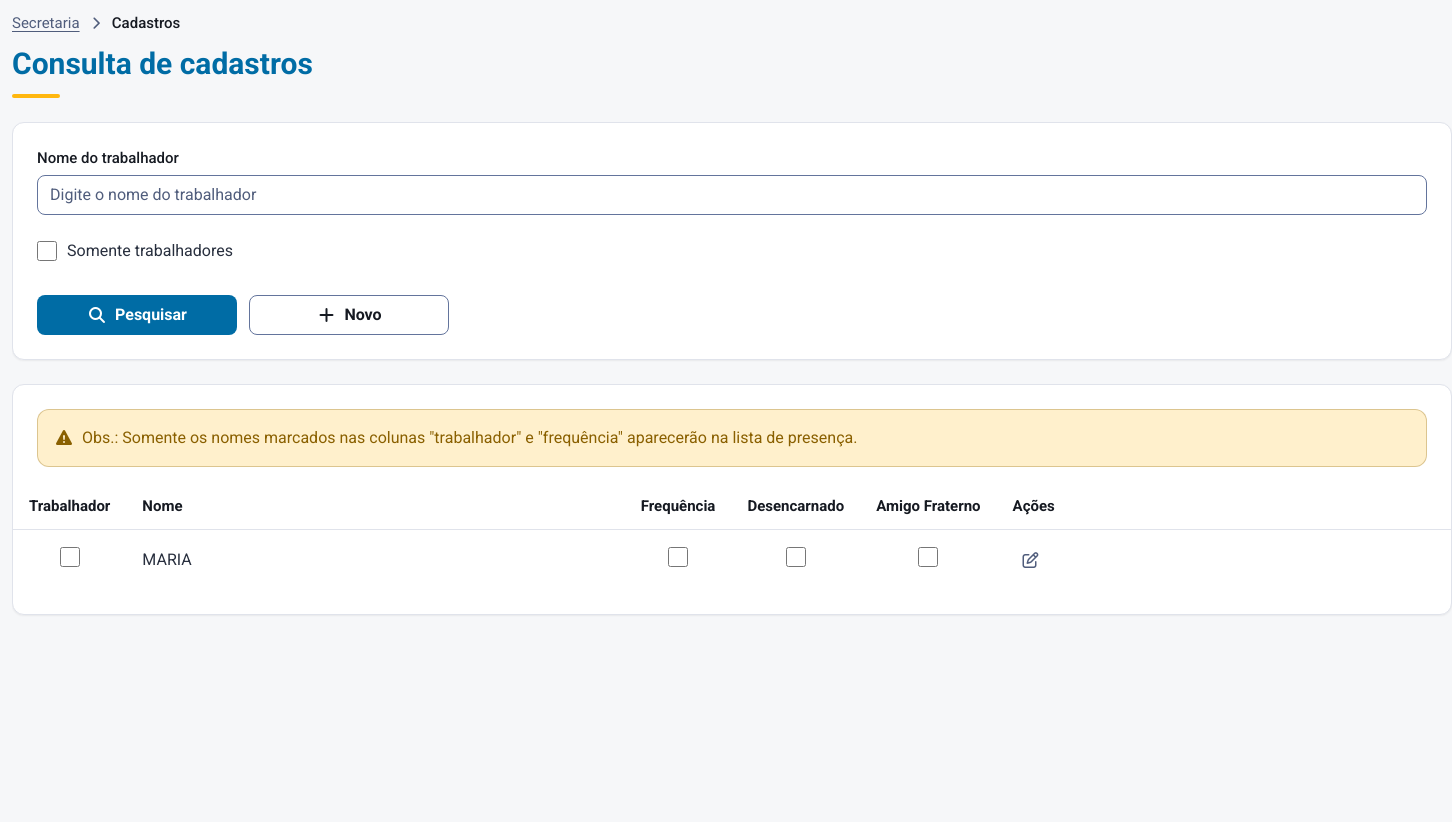
Test case: secretaria registration list flags › shows an alert and restores the flag when the update fails
Click the checkbox named "Marcar MARIA como trabalhador": {"x": 70, "y": 556} [60, 546, 80, 566]
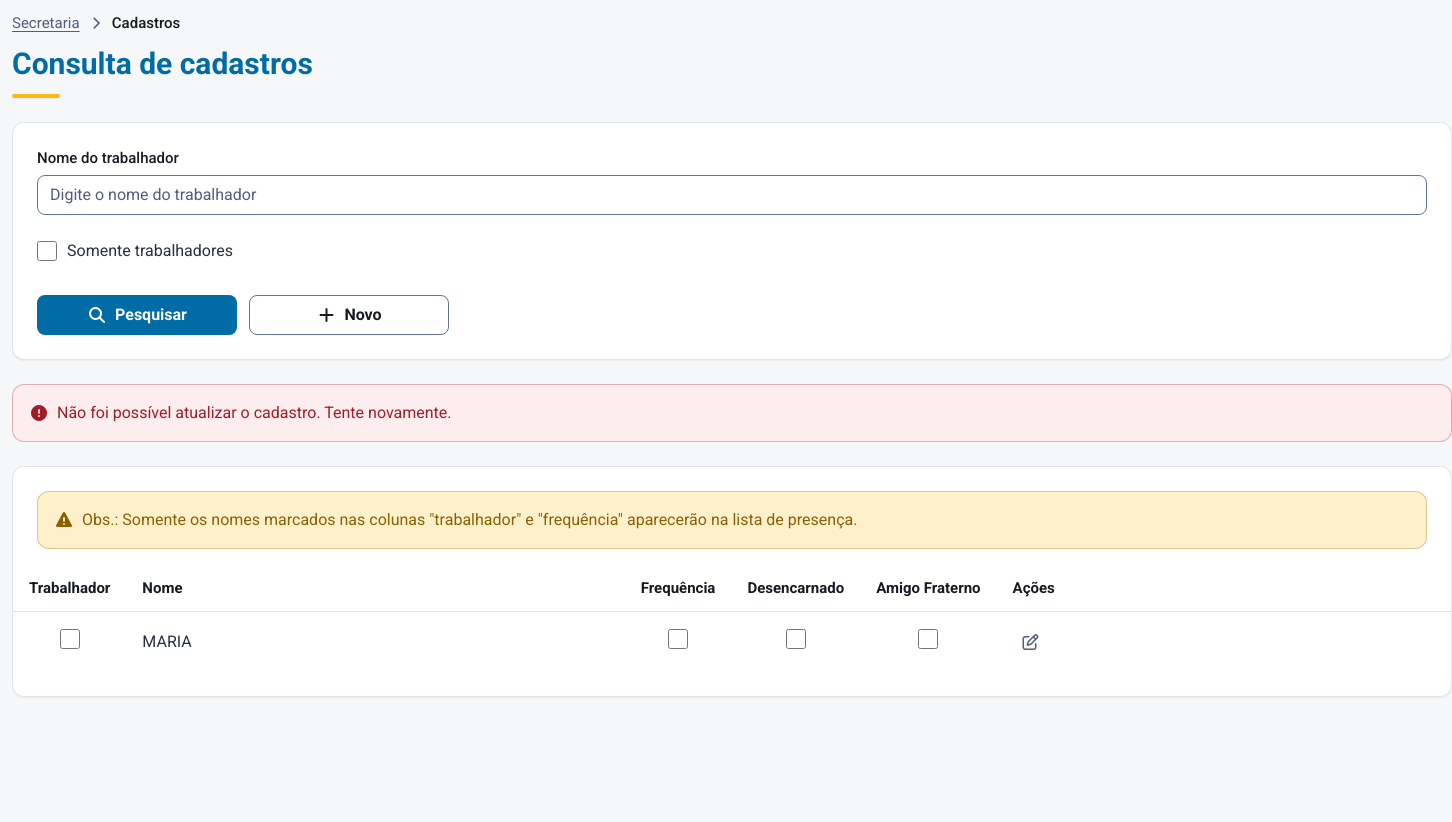
Expected: the message "Não foi possível atualizar o cadastro. Tente novamente." is shown, [12, 384, 1451, 442]
